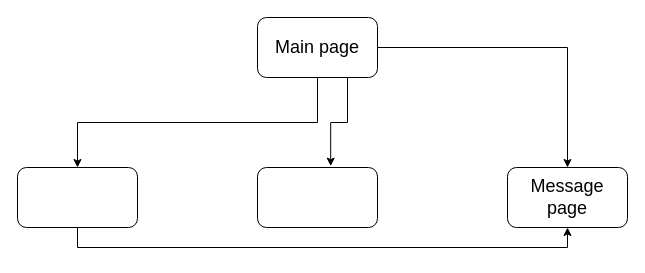
Image size: 645x273. Some labels were removed from this diagram. Here are the shapes that lost their labels. From the top down, the box of each, then its label:
(16, 166, 138, 228): Map page
(256, 166, 378, 228): Register/Login
